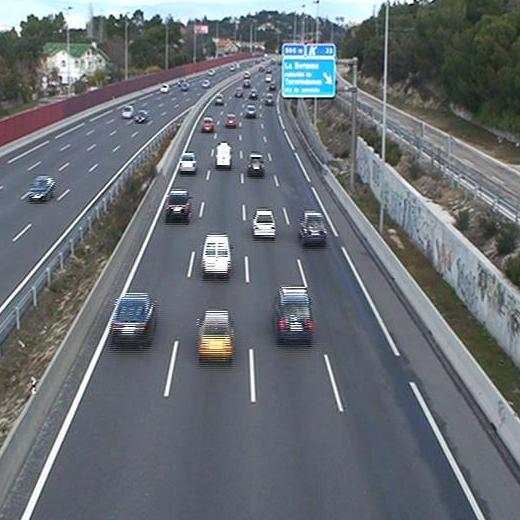car: (108, 292, 157, 344), (271, 287, 315, 340), (194, 309, 236, 359), (297, 211, 329, 240), (163, 190, 193, 218), (252, 209, 276, 236), (245, 153, 265, 174), (177, 153, 197, 172), (200, 116, 216, 132), (225, 112, 237, 127), (244, 104, 257, 116), (264, 93, 274, 105), (215, 92, 224, 104)
van: (200, 234, 231, 274), (215, 140, 233, 166)
